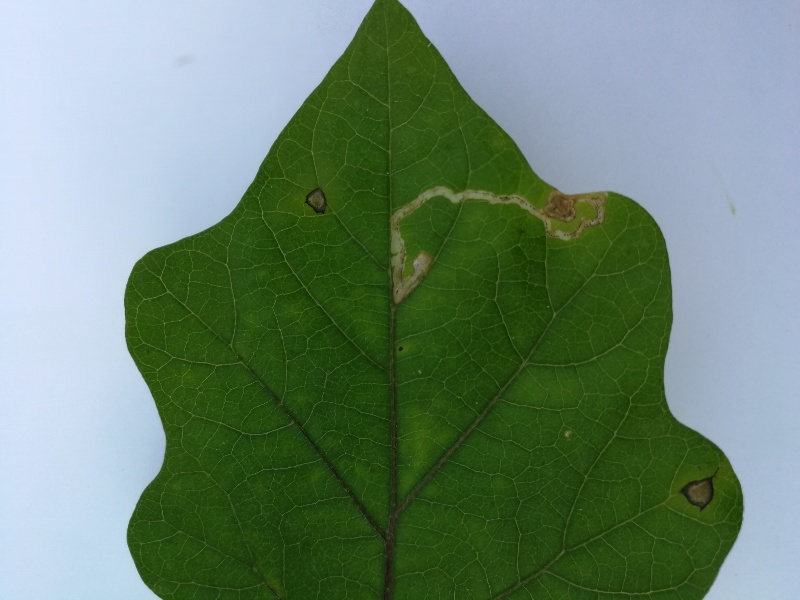leafminer: (377, 186, 619, 305)
